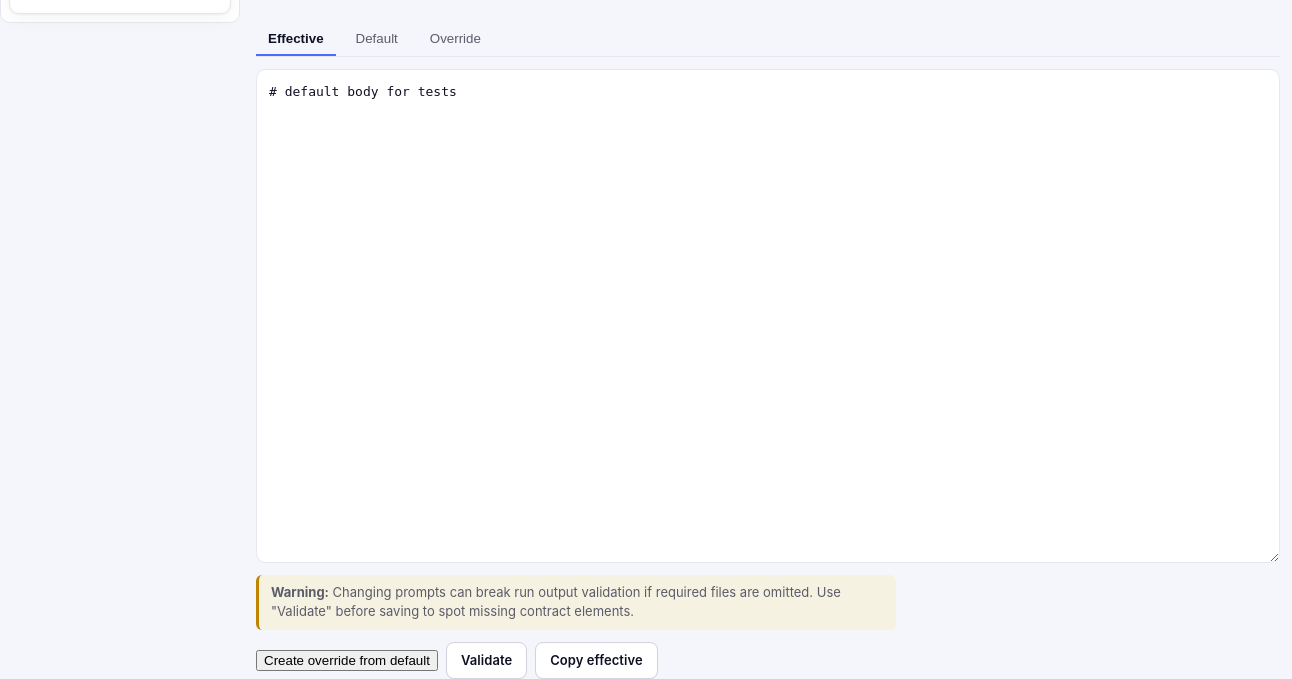
Scenario: PromptsPage › renders validation warnings returned from the API
(page scrolled)
Click the button with test id "prompt-validate" at {"x": 487, "y": 660}, box left=446, top=642, right=527, bottom=678
(page scrolled)
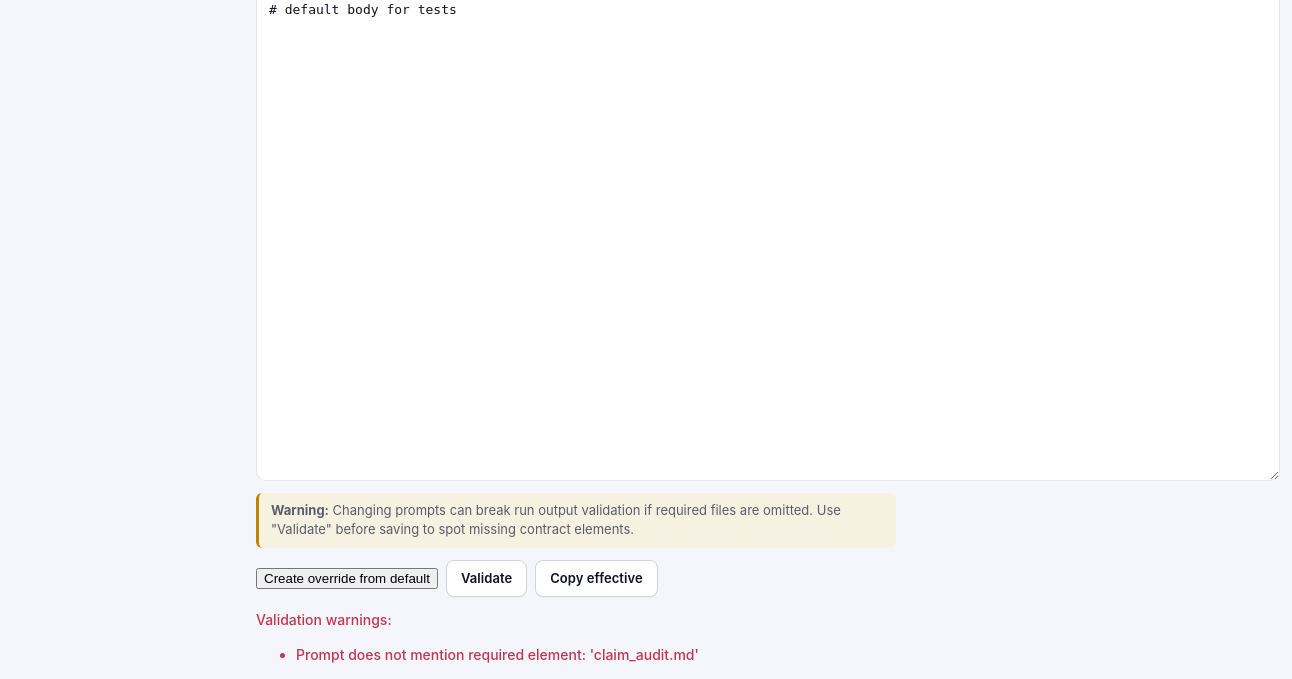
expect the message with test id "prompt-validation-result" shows "claim_audit.md": met, box left=296, top=646, right=699, bottom=663
